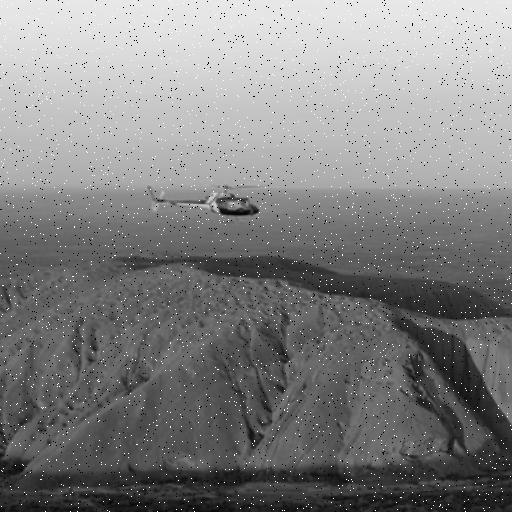helicopter: (139, 179, 272, 225)
